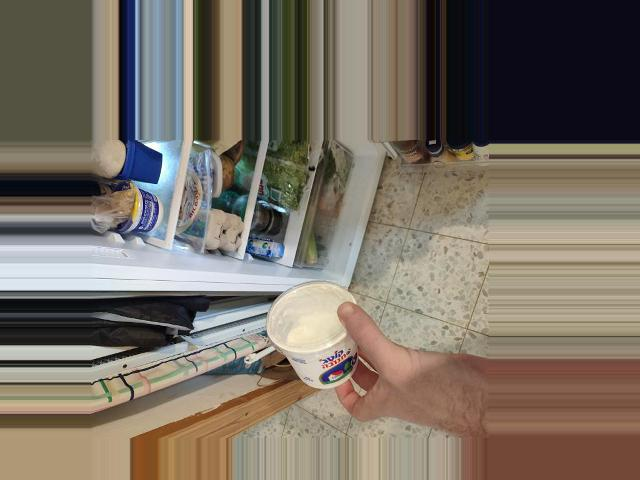cotage: (254, 282, 369, 391)
